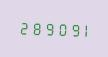eight: (29, 19, 40, 36)
nine: (42, 19, 53, 36), (66, 20, 77, 37)
one: (78, 20, 89, 38)
two: (17, 18, 28, 36)
zero: (54, 20, 65, 37)
